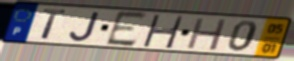0: (225, 20, 259, 53)
E: (103, 10, 149, 48)
H: (140, 13, 186, 50), (185, 16, 230, 52)
J: (68, 11, 102, 43)
T: (40, 8, 69, 41)
